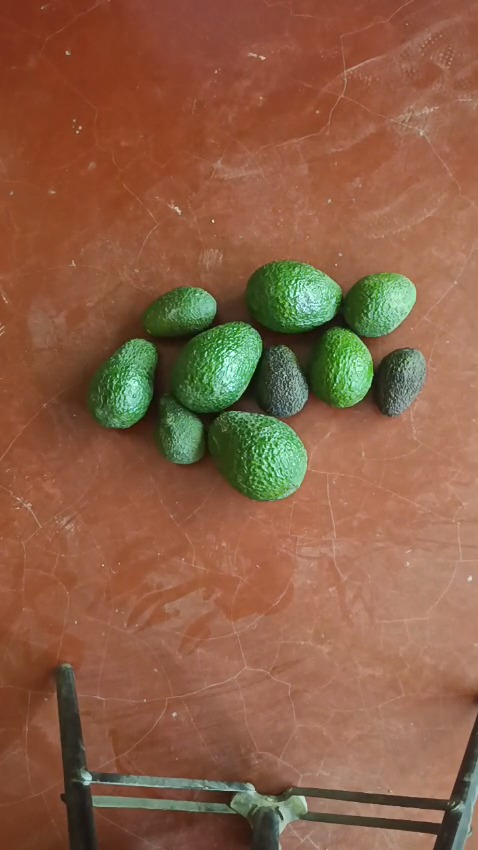Primera: (207, 411, 307, 499), (171, 322, 263, 413), (307, 327, 373, 409)
Segunda: (246, 260, 343, 333), (87, 338, 159, 429), (342, 273, 417, 339)
Tercera: (253, 343, 309, 418), (142, 287, 217, 339), (373, 347, 426, 417), (156, 394, 206, 464)
